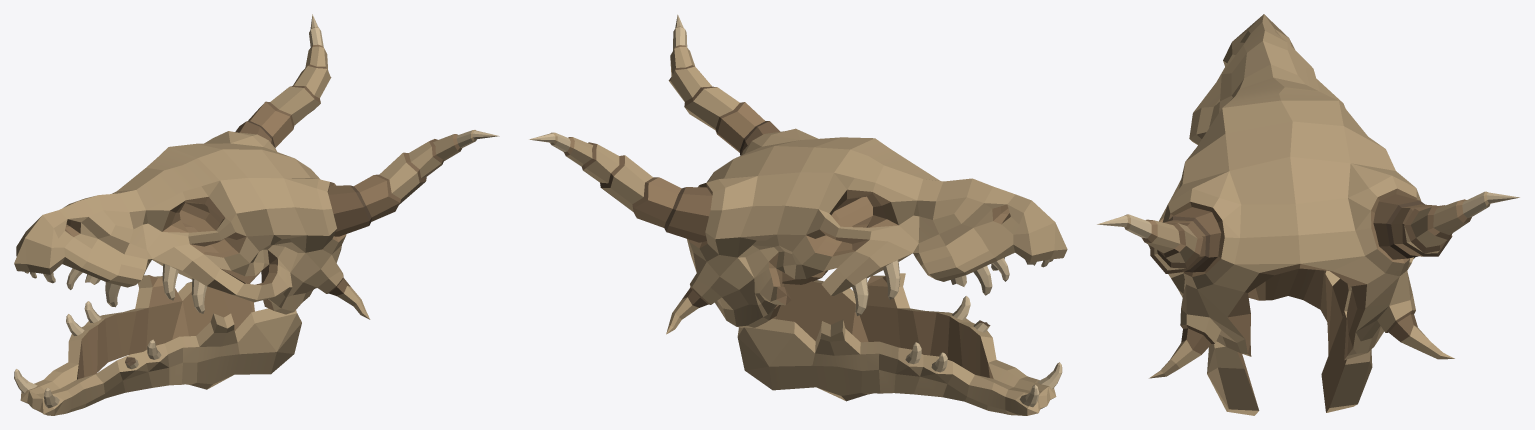
Rendered from tou.FBX.
3 renders of one model, left to right at view 1: azimuth 30°, elevation 25°; view 2: azimuth 150°, elevation 25°; view 3: azimuth 270°, elevation 25°, orthographic. The views are drawn at different scales.
Visible parts, largest first — view 1: SM_Env_Bone_Skull_01_Dungeon_Material_01_0; view 2: SM_Env_Bone_Skull_01_Dungeon_Material_01_0; view 3: SM_Env_Bone_Skull_01_Dungeon_Material_01_0.
Boxes of the visible parts, left/top/right/bottom form: SM_Env_Bone_Skull_01_Dungeon_Material_01_0: left=14, top=14, right=499, bottom=415; SM_Env_Bone_Skull_01_Dungeon_Material_01_0: left=529, top=14, right=1067, bottom=415; SM_Env_Bone_Skull_01_Dungeon_Material_01_0: left=1097, top=14, right=1519, bottom=415.
Bounding box in the file's own units: 45.29 × 24.84 × 30.17.
